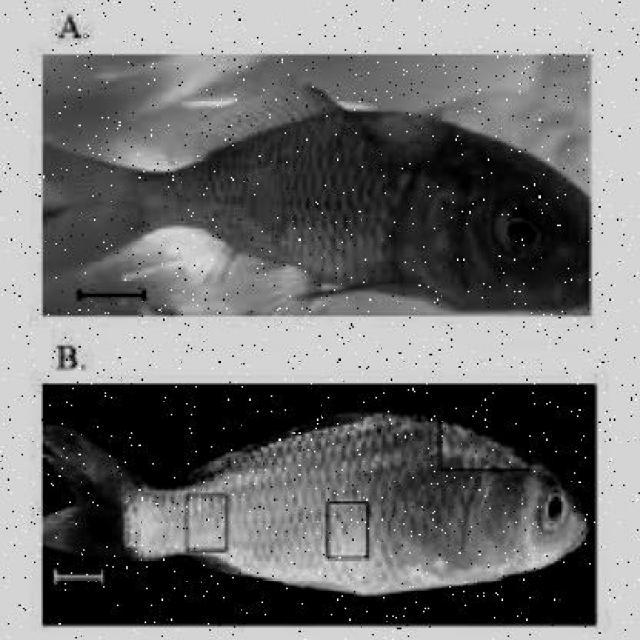ikan-mas: (47, 81, 590, 310), (44, 390, 596, 604)
